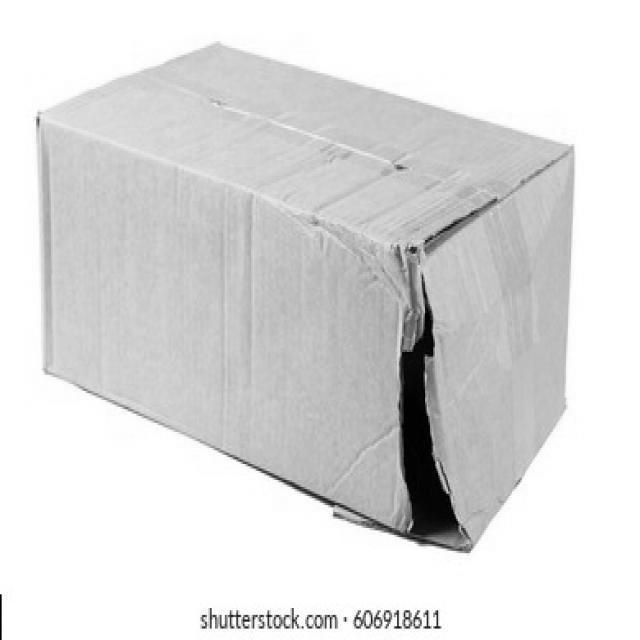hole: (390, 274, 471, 558)
